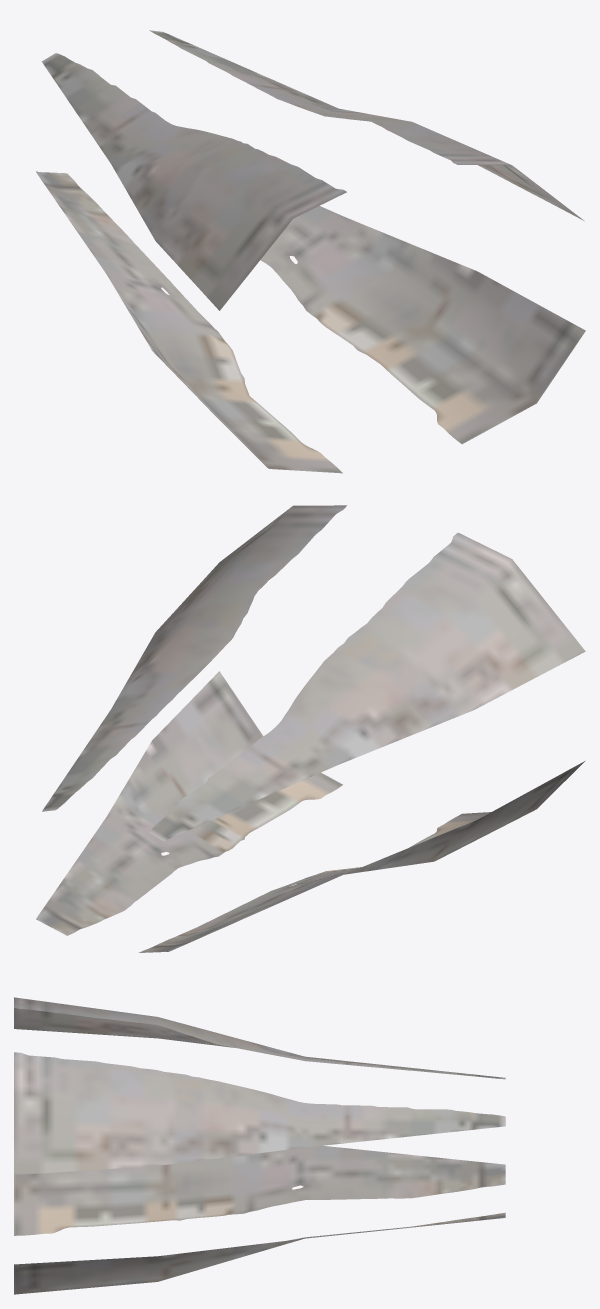
Rendered from hutt_fighter_heavy_engine_s02_l2.fbx.
The picture shows the model from 3 angles, top to bottom: view 1: azimuth 30°, elevation 25°; view 2: azimuth 150°, elevation 25°; view 3: azimuth 270°, elevation 25°; orthographic projection. The views are drawn at different scales.
Parts seen in each view (by area): view 1: mesh_node; view 2: mesh_node; view 3: mesh_node.
Part boxes in pixels (x1=…): mesh_node: x1=36, y1=30, x2=585, y2=473; mesh_node: x1=36, y1=505, x2=585, y2=952; mesh_node: x1=14, y1=997, x2=505, y2=1294.
Bounding box in the file's own units: 7.65 × 6.22 × 12.63.
